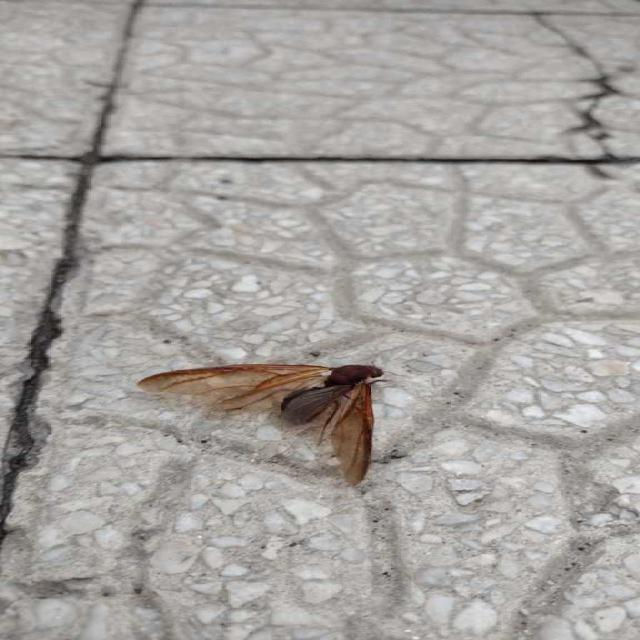Alive-Female-Alate: (136, 359, 412, 489)
